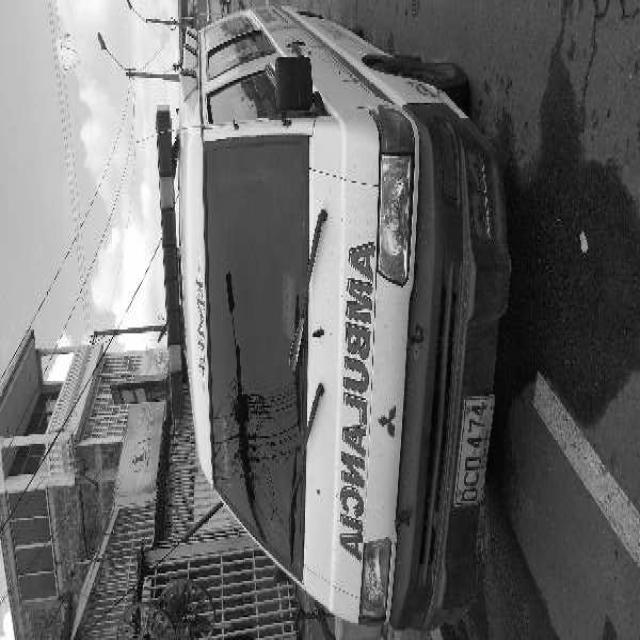plate: (452, 392, 497, 515)
